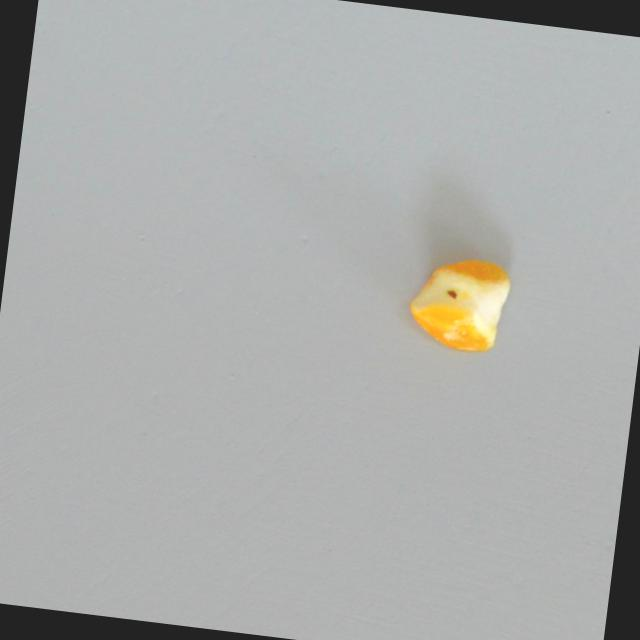punto_negro: (403, 247, 516, 356)
